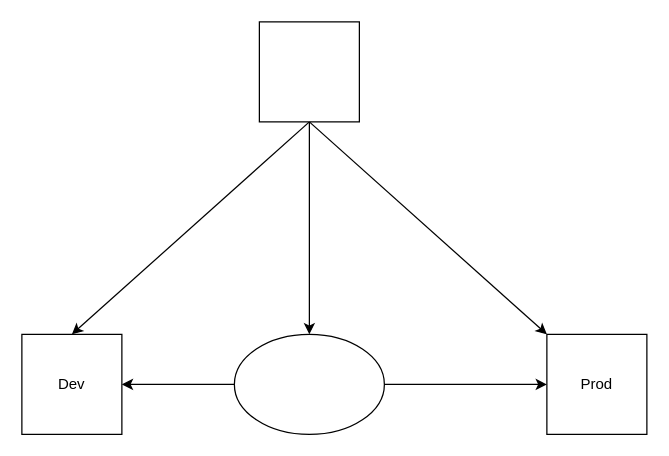
Image size: 669x456. Some labels were removed from this diagram. The centre of each missing label's shape, as x and y in pixels:
"dCloud Gateway" belongs at (x=308, y=71).
"Ubuntu Server" belongs at (x=308, y=383).
